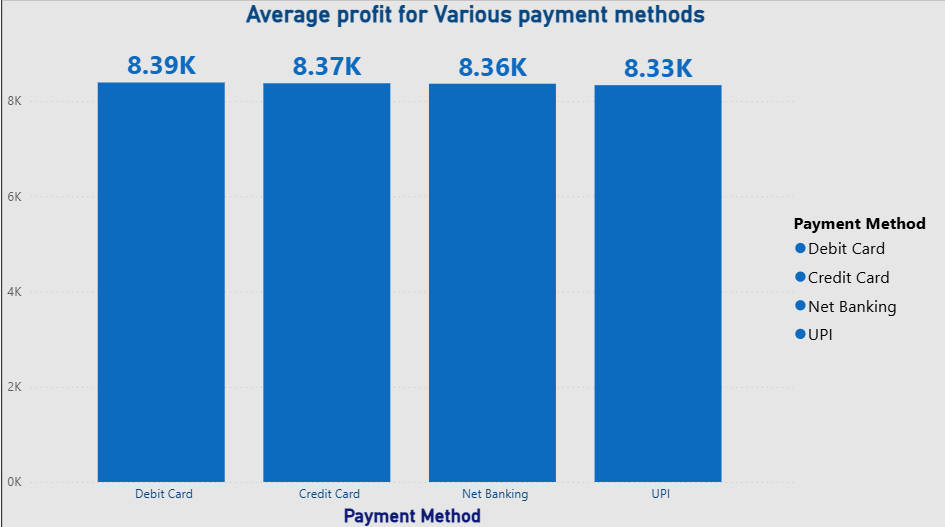

This screenshot's page, from the dashboard's own definition file:
{"tool":"powerbi","page":{"name":"Page 1","canvas":[1280,720],"ordinal":0},"visuals":[{"type":"columnChart","title":"Average profit for Various payment methods","fields":{"Y":["Avg(Sheet1.Profit)"],"Category":["Sheet1.Payment Method"],"Series":["Sheet1.Payment Method"]},"box":[148.2,98.8,926.2,521.4],"z":0}]}

Visuals, with their boxes in screenshot pixels (x1, y1, x2, y2), scaled from the page's 1280x720 canvas onto the 945x527 screenshot:
"Average profit for Various payment methods" columnChart: (109, 72, 793, 454)
